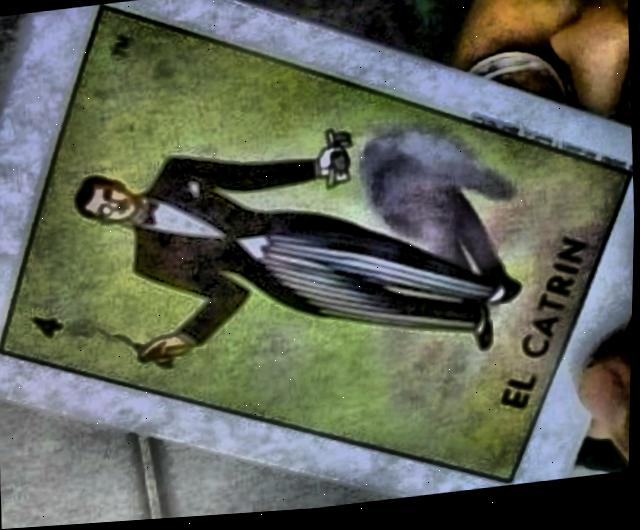El Catrin: (0, 8, 633, 487)
